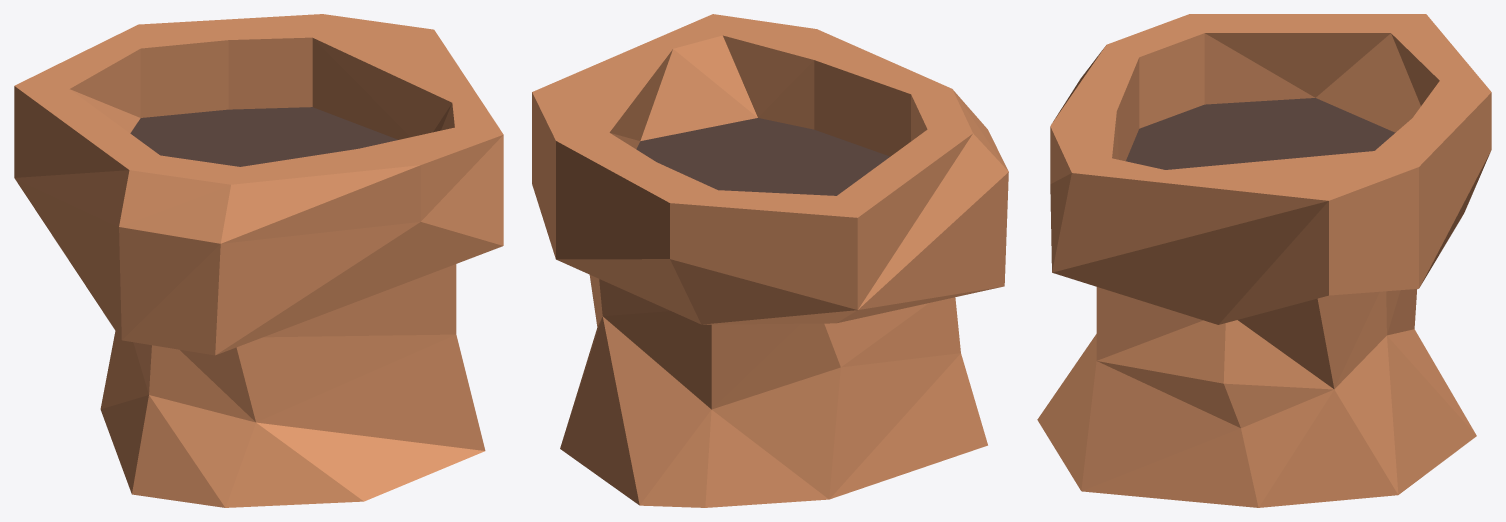
Rendered from Bag.fbx.
3 views of the same model, side by side, from view 1: azimuth 30°, elevation 25°; view 2: azimuth 150°, elevation 25°; view 3: azimuth 270°, elevation 25° (orthographic). The views are drawn at different scales.
Visible parts, largest first — view 1: Bag; view 2: Bag; view 3: Bag.
Boxes of the visible parts, left/top/right/bottom form: Bag: left=14, top=14, right=503, bottom=507; Bag: left=532, top=14, right=1008, bottom=507; Bag: left=1037, top=14, right=1491, bottom=507.
Size of the model in its own units: 16.24 by 12.41 by 15.72.
